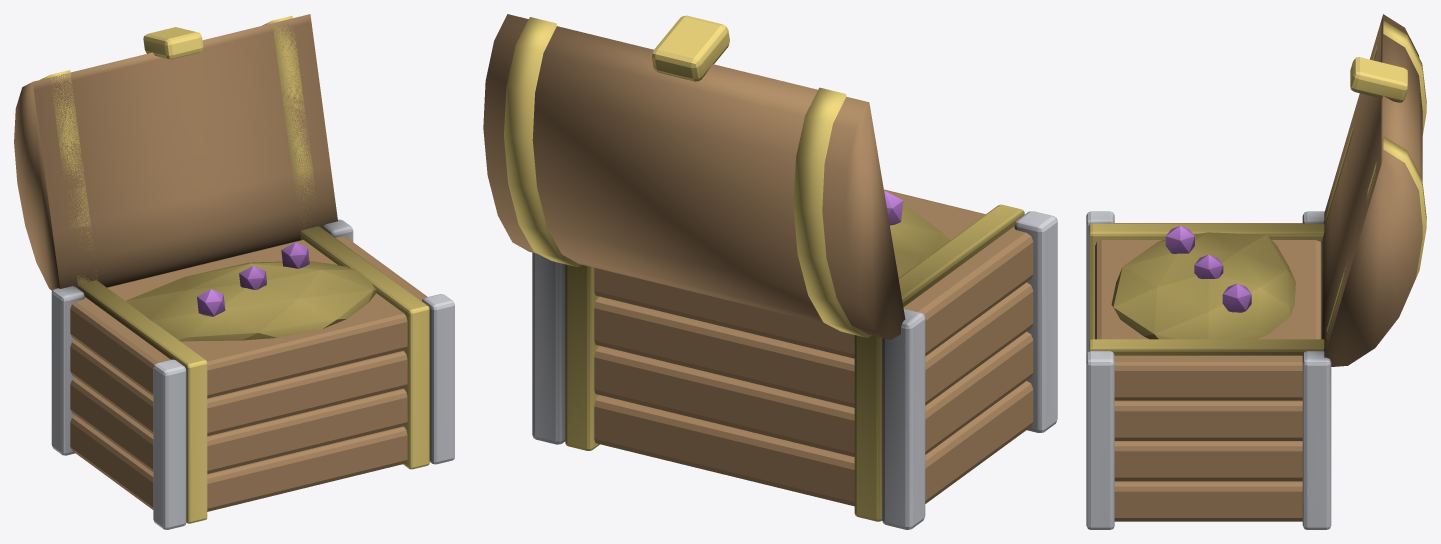
The model's file is chest_open.fbx.
3 renders of one model, left to right at view 1: azimuth 30°, elevation 25°; view 2: azimuth 150°, elevation 25°; view 3: azimuth 270°, elevation 25°, orthographic. The views are drawn at different scales.
Visible parts, largest first — view 1: Lid, Plank.003, Treasure, Plank.002, Plank, Plank.001, Band.001, Band, Corner, Corner.002, Corner.001, LidBand@Lid.001 (+5 smaller); view 2: Lid, Plank.002, Plank.001, Plank, Plank.003, Band, Corner.001, LidBand@Lid, LidBand@Lid.001, Corner.003, Corner, Band.001 (+2 smaller); view 3: Lid, Plank.003, Treasure, Plank, Plank.001, Plank.002, Corner.003, Corner.002, Band, Band.001, Lock@Lid, LidBand@Lid.001 (+5 smaller).
Part boxes in pixels (x1,y1,x2,y2): Lid: (14, 14, 337, 290); Plank.003: (70, 236, 427, 398); Treasure: (125, 261, 376, 341); Plank.002: (70, 340, 407, 436); Plank: (70, 415, 407, 511); Plank.001: (70, 377, 407, 473); Band.001: (300, 226, 429, 469); Band: (78, 280, 207, 523); Corner: (153, 359, 186, 529); Corner.002: (422, 294, 454, 464); Corner.001: (51, 286, 84, 455); LidBand@Lid.001: (262, 15, 315, 229); Lid: (483, 14, 905, 339); Plank.002: (594, 282, 1033, 407); Plank.001: (594, 331, 1033, 456); Plank: (594, 381, 1033, 506); Plank.003: (594, 189, 1033, 358); Band: (854, 204, 1024, 521); Corner.001: (882, 308, 925, 529); LidBand@Lid: (793, 87, 871, 337); LidBand@Lid.001: (504, 17, 581, 267); Corner.003: (532, 252, 565, 444); Corner: (1014, 211, 1057, 432); Band.001: (565, 264, 599, 450); Lid: (1321, 14, 1422, 366); Plank.003: (1095, 223, 1321, 400); Treasure: (1111, 232, 1295, 339); Plank: (1114, 481, 1302, 521); Plank.001: (1114, 441, 1302, 481); Plank.002: (1114, 400, 1302, 440); Corner.003: (1302, 351, 1331, 529); Corner.002: (1086, 351, 1114, 529); Band: (1089, 223, 1324, 341); Band.001: (1089, 339, 1324, 355); Lock@Lid: (1350, 57, 1407, 102); LidBand@Lid.001: (1326, 136, 1426, 339).
Bounding box in the file's own units: 0.63 × 0.7579 × 0.5974.
